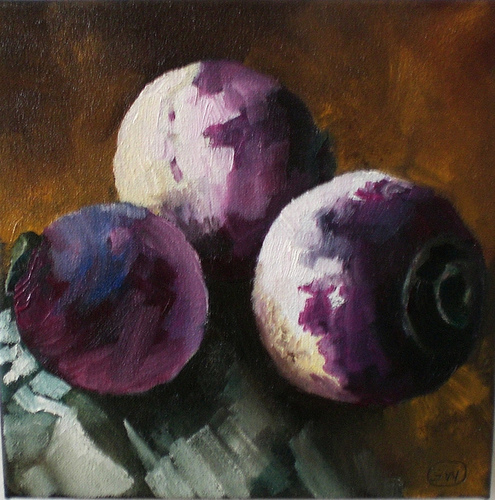turnip: (248, 167, 493, 407), (113, 63, 331, 267), (6, 200, 212, 400)
